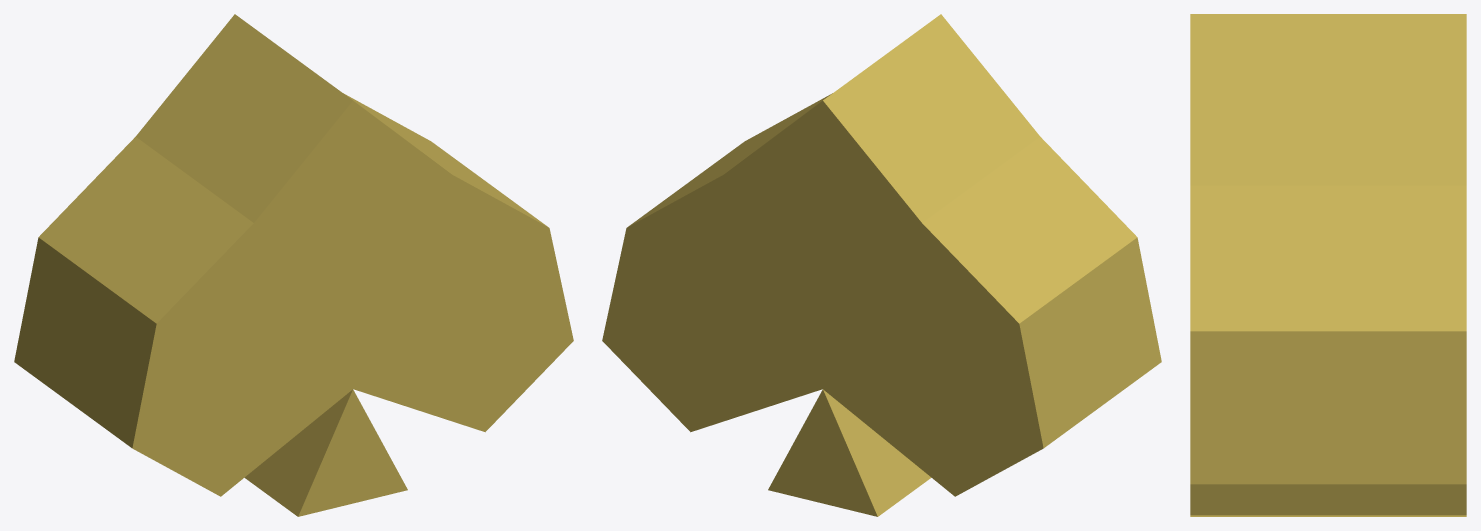
File: Spades.fbx
The picture shows the model from 3 angles, left to right: view 1: azimuth 30°, elevation 25°; view 2: azimuth 150°, elevation 25°; view 3: azimuth 270°, elevation 25°; orthographic projection. The views are drawn at different scales.
Visible parts, largest first — view 1: Spades; view 2: Spades; view 3: Spades.
Part boxes in pixels (x1,y1,x2,y2): Spades: (14, 14, 573, 516); Spades: (602, 14, 1161, 516); Spades: (1190, 14, 1466, 516).
Size of the model in its own units: 34.21 by 29.84 by 15.87.
